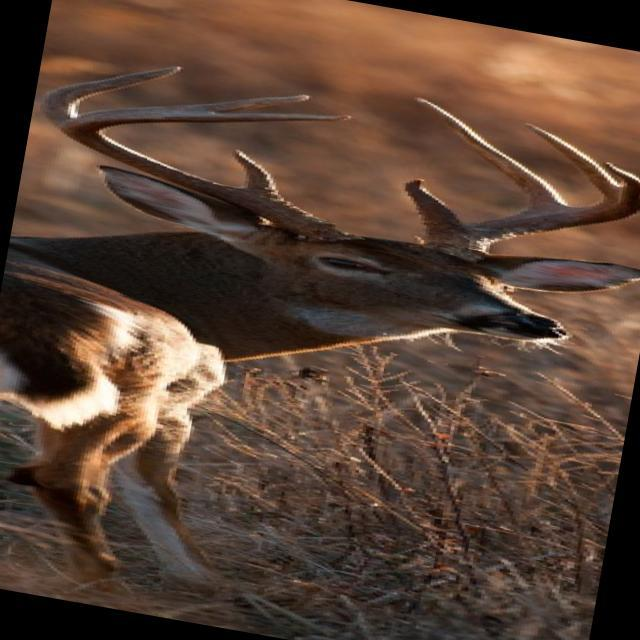L-F: (422, 162, 640, 263)
L-G1: (404, 178, 464, 227)
L-G2: (416, 97, 571, 211)
L-G3: (523, 123, 619, 196)
R-F: (53, 104, 362, 240)
R-G1: (230, 148, 285, 200)
R-G2: (41, 66, 184, 125)
R-G3: (190, 94, 312, 113)
